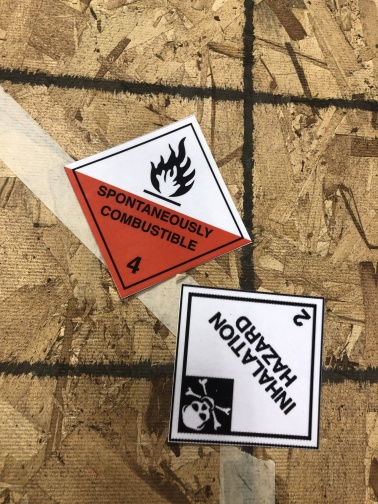InhalationHazard: (168, 283, 324, 451)
SpontaneouslyCombustible: (64, 117, 252, 298)
